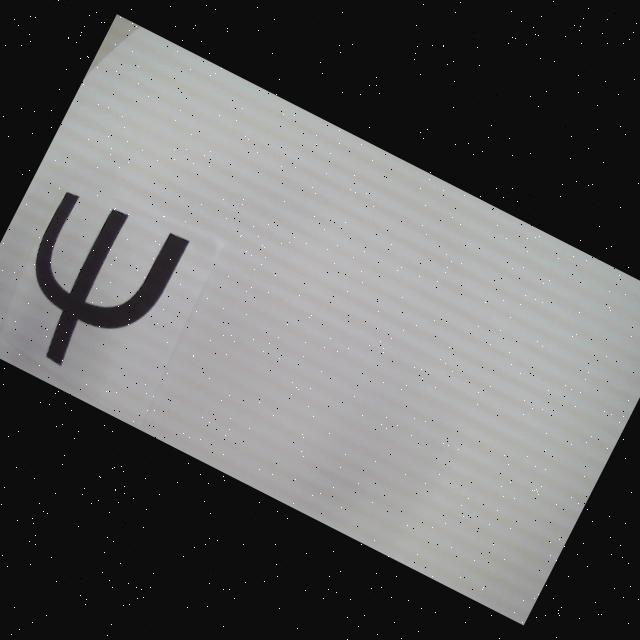PSI: (0, 181, 189, 392)
